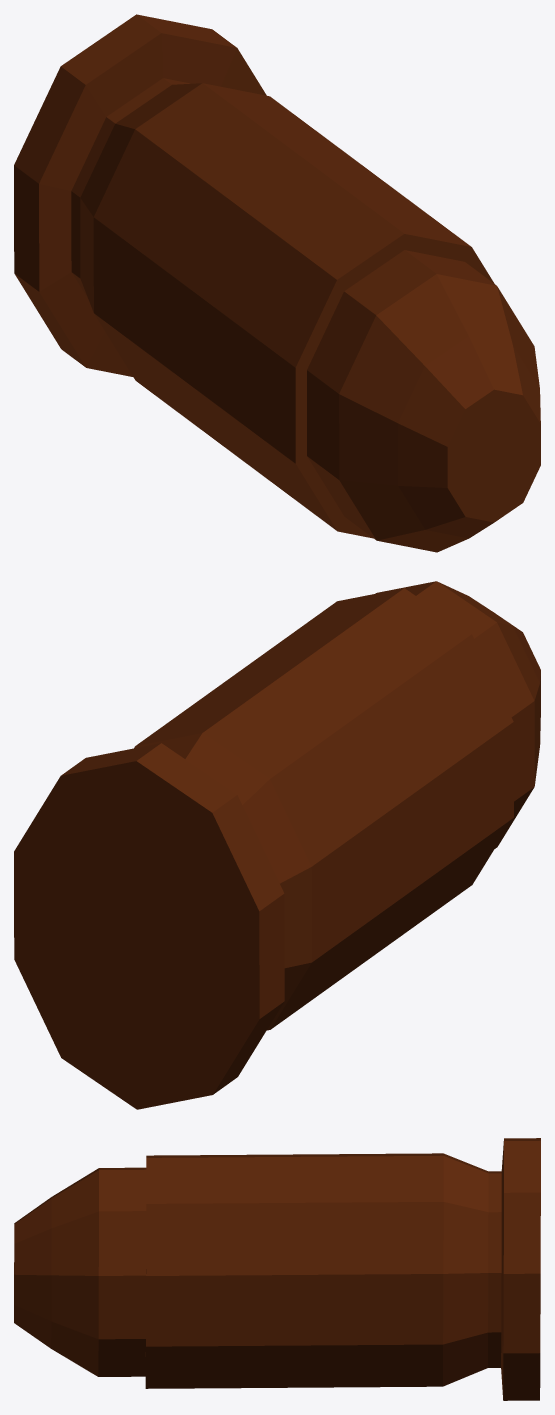
Rendered from pistol_bullet.glb.
The picture shows the model from 3 angles, top to bottom: view 1: azimuth 30°, elevation 25°; view 2: azimuth 150°, elevation 25°; view 3: azimuth 270°, elevation 25°; orthographic projection. The views are drawn at different scales.
Parts seen in each view (by area): view 1: bullet; view 2: bullet; view 3: bullet.
Part boxes in pixels (box(x1,y1,x2,y2)): bullet: box(14, 14, 540, 552); bullet: box(14, 581, 540, 1109); bullet: box(14, 1138, 540, 1400).
Bounding box in the file's own units: 0.0137 × 0.0187 × 0.0347.
1 material, 1 textured.
